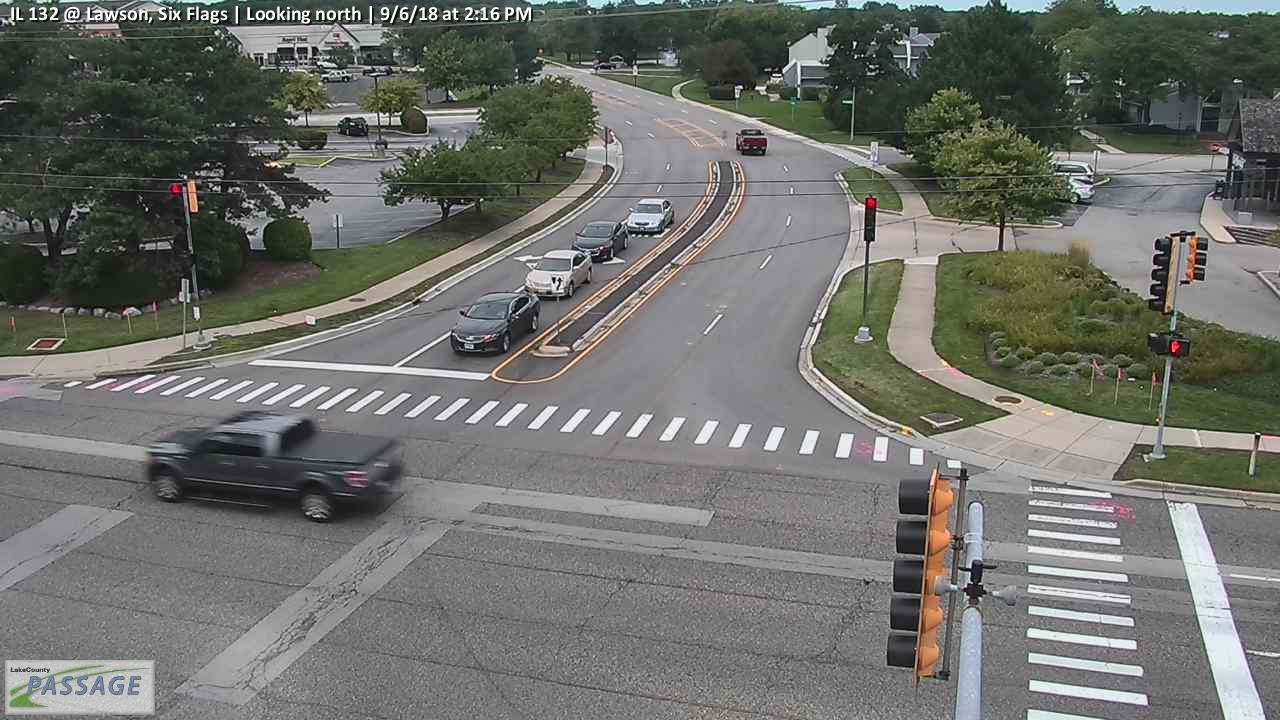Sedan: (141, 407, 402, 525), (450, 287, 541, 354), (525, 248, 593, 298), (570, 218, 629, 262), (626, 194, 674, 238), (337, 114, 369, 135), (593, 62, 617, 72)
Truck: (735, 127, 769, 155)
